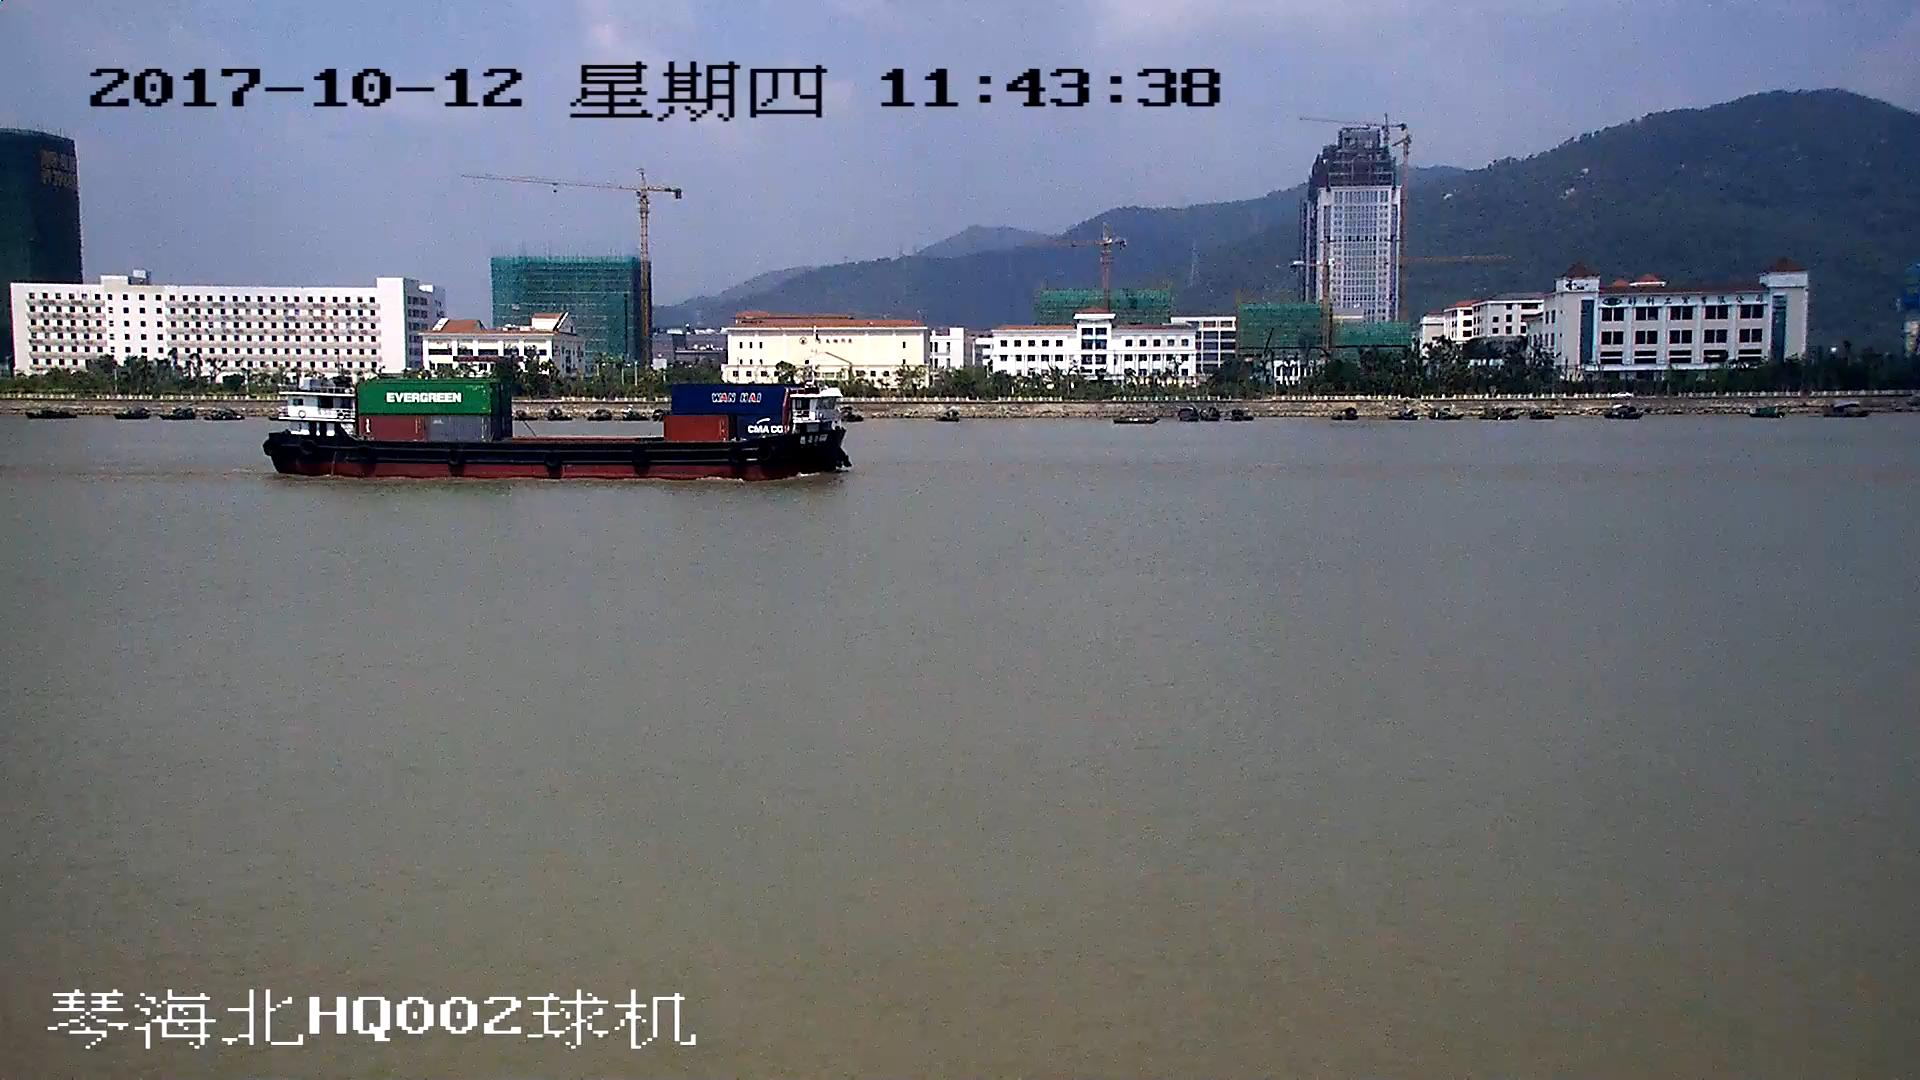container ship: (267, 375, 846, 483)
